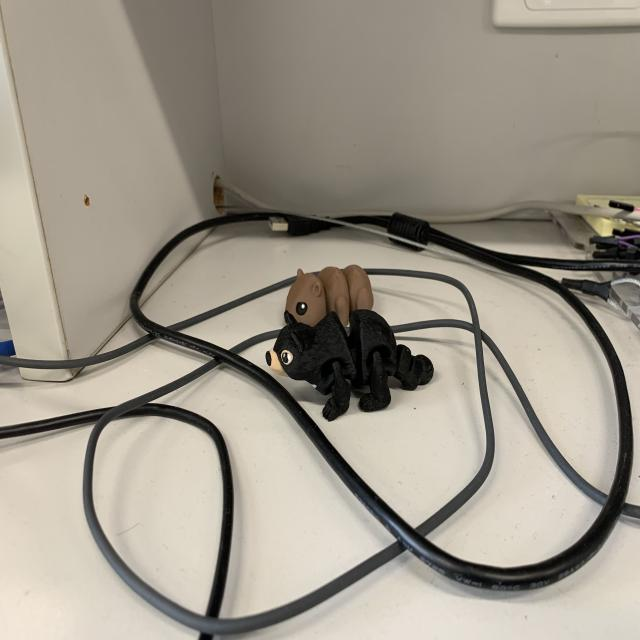tassie devil: (260, 306, 440, 426)
wombat: (278, 252, 378, 330)
